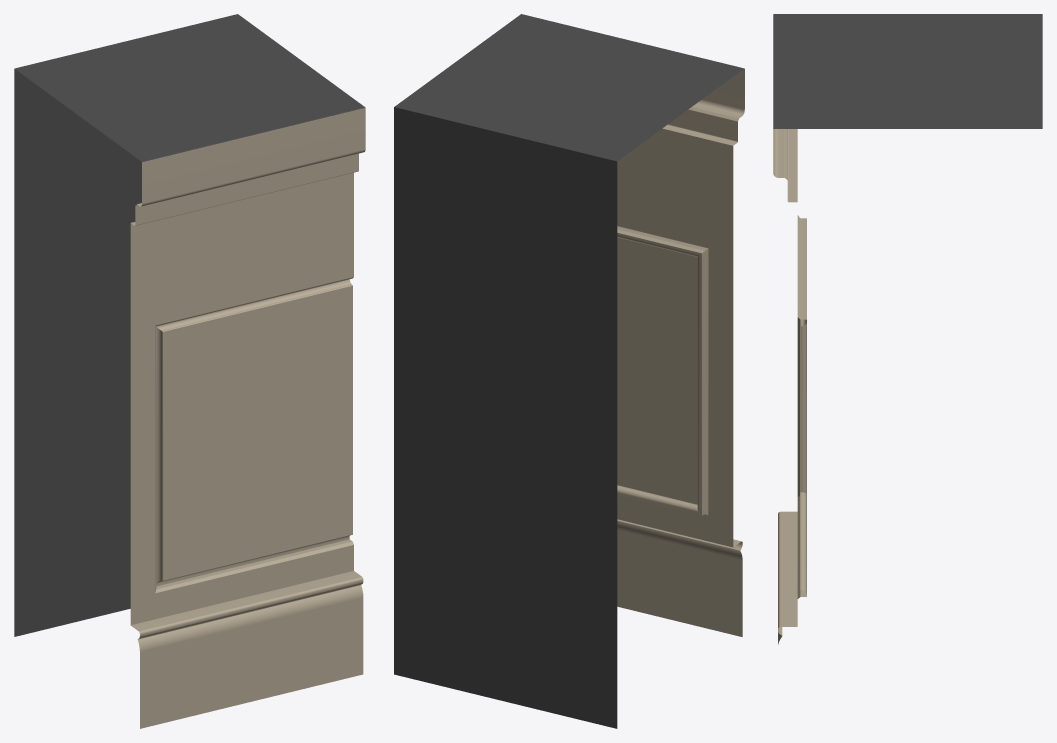
Rendered from Wallset_02.1.07.fbx.
3 views of the same model, side by side, from view 1: azimuth 30°, elevation 25°; view 2: azimuth 150°, elevation 25°; view 3: azimuth 270°, elevation 25° (orthographic). The views are drawn at different scales.
Parts seen in each view (by area): view 1: polySurface10; view 2: polySurface10; view 3: polySurface10.
Part boxes in pixels (x1,y1,x2,y2): polySurface10: [14, 14, 365, 728]; polySurface10: [394, 14, 744, 728]; polySurface10: [773, 14, 1042, 644].
Bounding box in the file's own units: 100 × 243 × 98.98.
